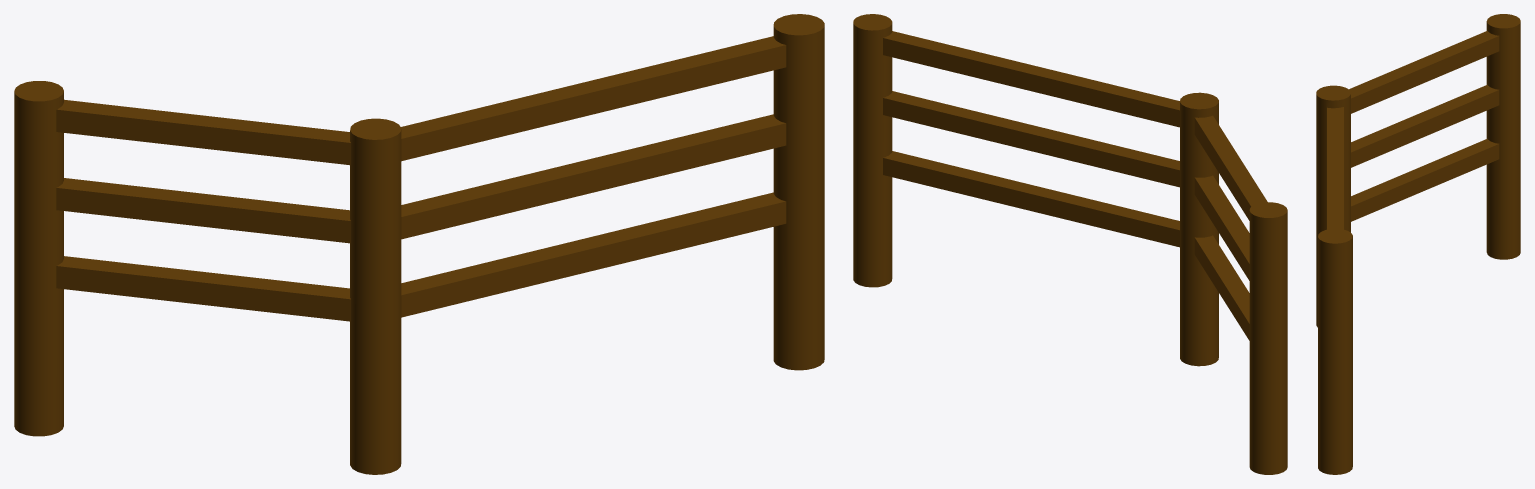
The model's file is Fence3x1.fbx.
3 views of the same model, side by side, from view 1: azimuth 30°, elevation 25°; view 2: azimuth 150°, elevation 25°; view 3: azimuth 270°, elevation 25° (orthographic). The views are drawn at different scales.
Visible parts, largest first — view 1: Wood_mat Mesh (1); view 2: Wood_mat Mesh (1); view 3: Wood_mat Mesh (1).
Part boxes in pixels (<box>): Wood_mat Mesh (1): <box>14,14,824,474</box>; Wood_mat Mesh (1): <box>853,14,1287,474</box>; Wood_mat Mesh (1): <box>1316,14,1520,474</box>.
Size of the model in its own units: 3.19 by 1.5 by 1.2.
